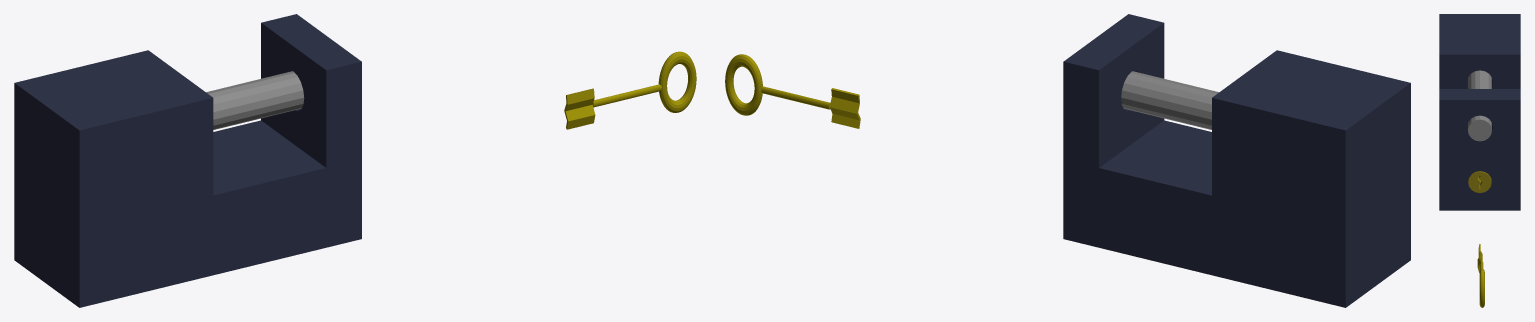
File: Lock and Key.fbx
3 renders of one model, left to right at view 1: azimuth 30°, elevation 25°; view 2: azimuth 150°, elevation 25°; view 3: azimuth 270°, elevation 25°, orthographic. The views are drawn at different scales.
Visible parts, largest first — view 1: Cube, Cylinder.001, Key; view 2: Cube, Cylinder.001, Key; view 3: Cube, Cylinder.001, Cylinder.003, Key.
Boxes of the visible parts, box(x1,y1,x2,y2) form: Cube: box(14, 14, 361, 307); Cylinder.001: box(206, 71, 304, 129); Key: box(564, 51, 696, 129); Cube: box(1063, 14, 1410, 307); Cylinder.001: box(1121, 71, 1218, 129); Key: box(725, 54, 860, 128); Cube: box(1439, 14, 1520, 210); Cylinder.001: box(1468, 70, 1491, 141); Cylinder.003: box(1468, 171, 1491, 192); Key: box(1477, 244, 1484, 307).
Bounding box in the file's own units: 768 × 200 × 133.
